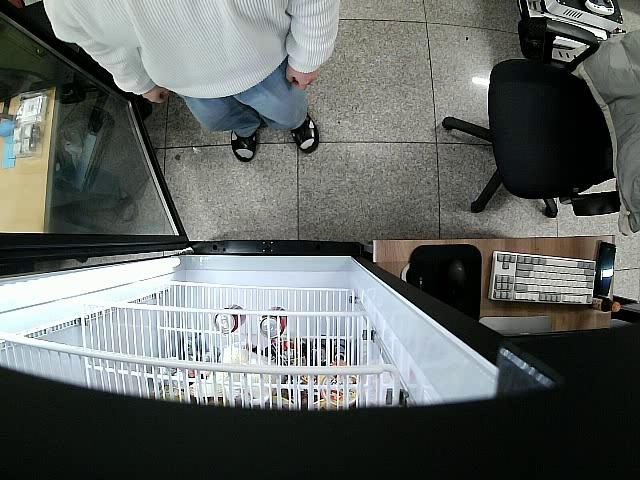00_hand: (284, 63, 319, 91), (140, 83, 171, 107)
